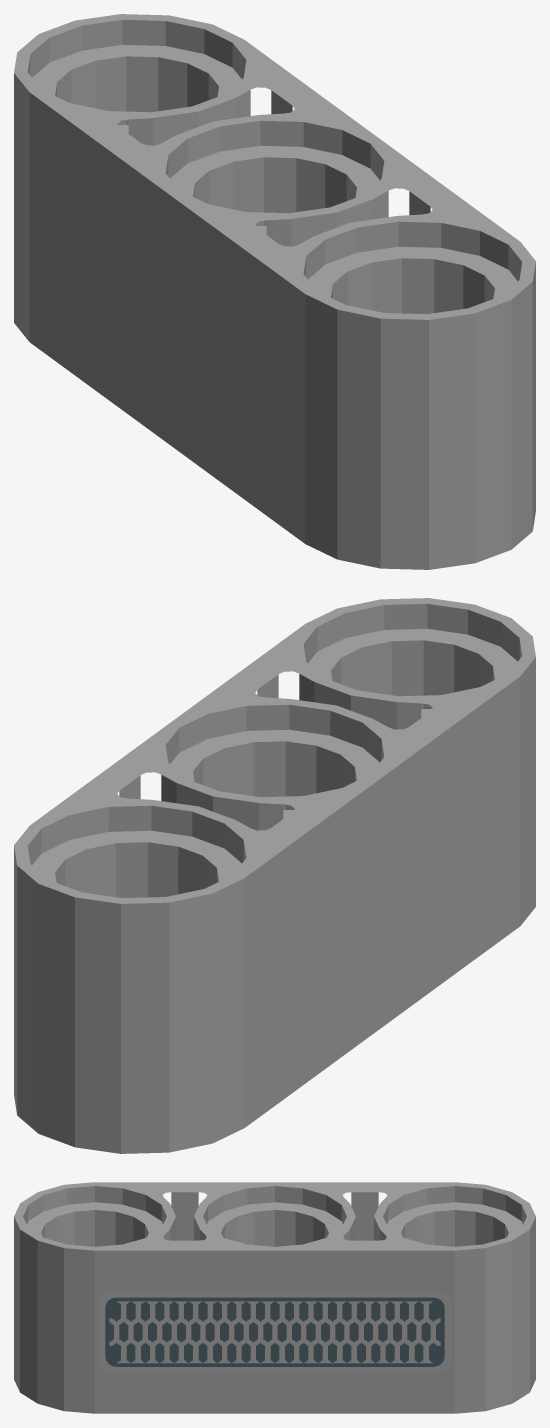
3 views of the same model, one above another, from view 1: azimuth 30°, elevation 25°; view 2: azimuth 150°, elevation 25°; view 3: azimuth 270°, elevation 25° (orthographic). The views are drawn at different scales.
Visible parts, largest first — view 1: world; view 2: world; view 3: world.
Part boxes in pixels (box(x1,y1,x2,y2)): world: box(14, 14, 535, 569); world: box(14, 598, 535, 1153); world: box(14, 1182, 535, 1413).
Size of the model in its own units: 0.0072 by 0.008 by 0.0232.
